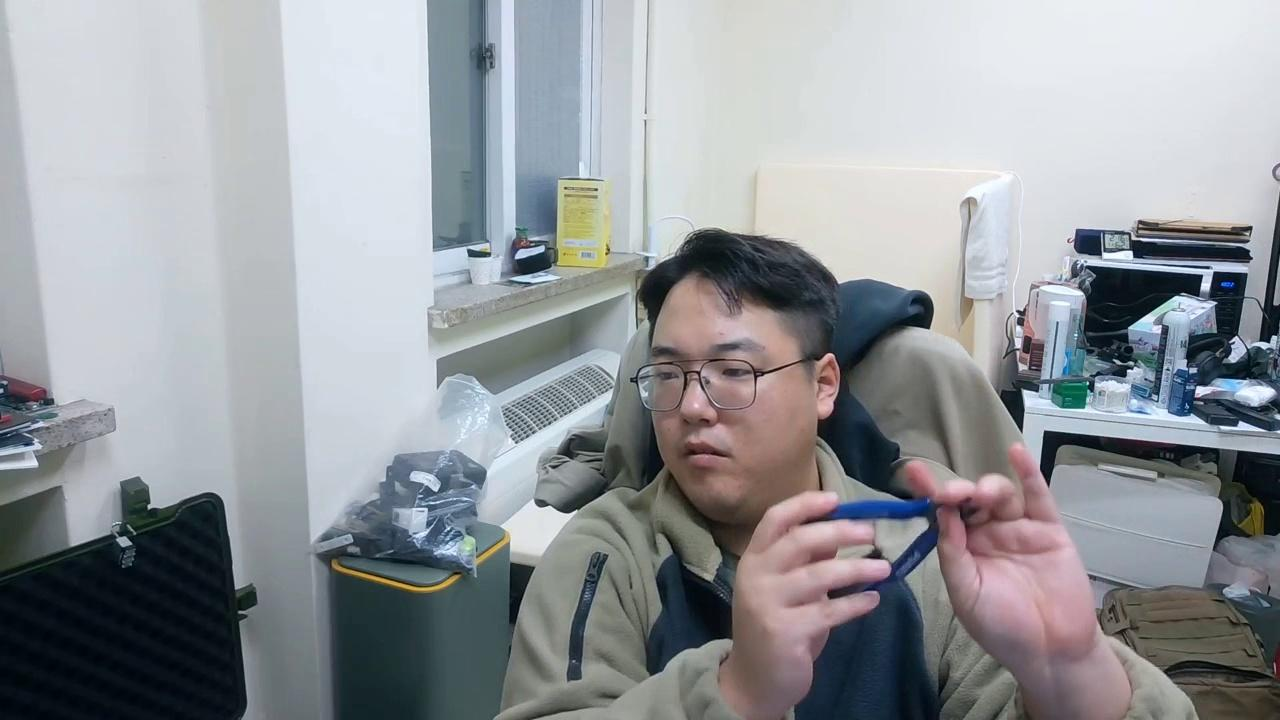blue_pliers: (812, 495, 941, 599)
